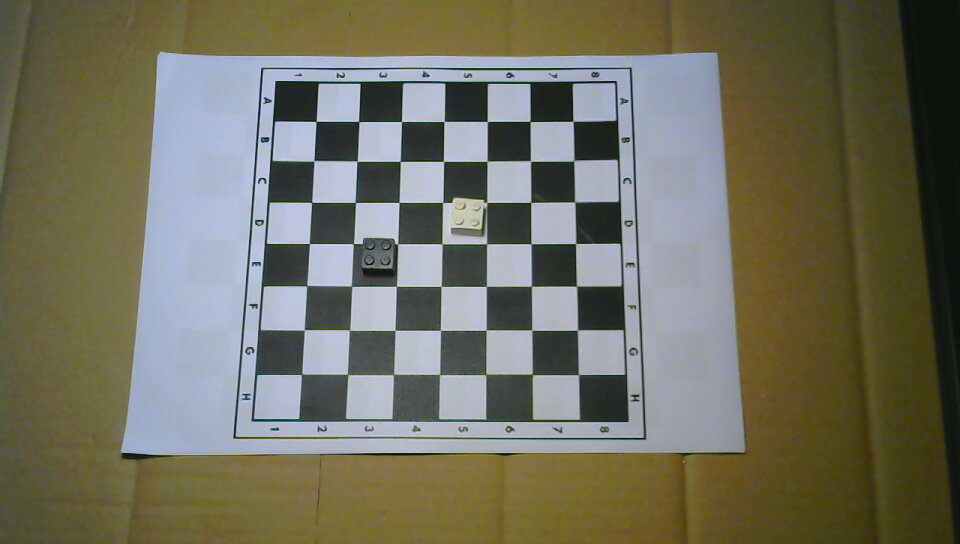bp: (360, 236, 397, 277)
wp: (448, 196, 487, 238)
